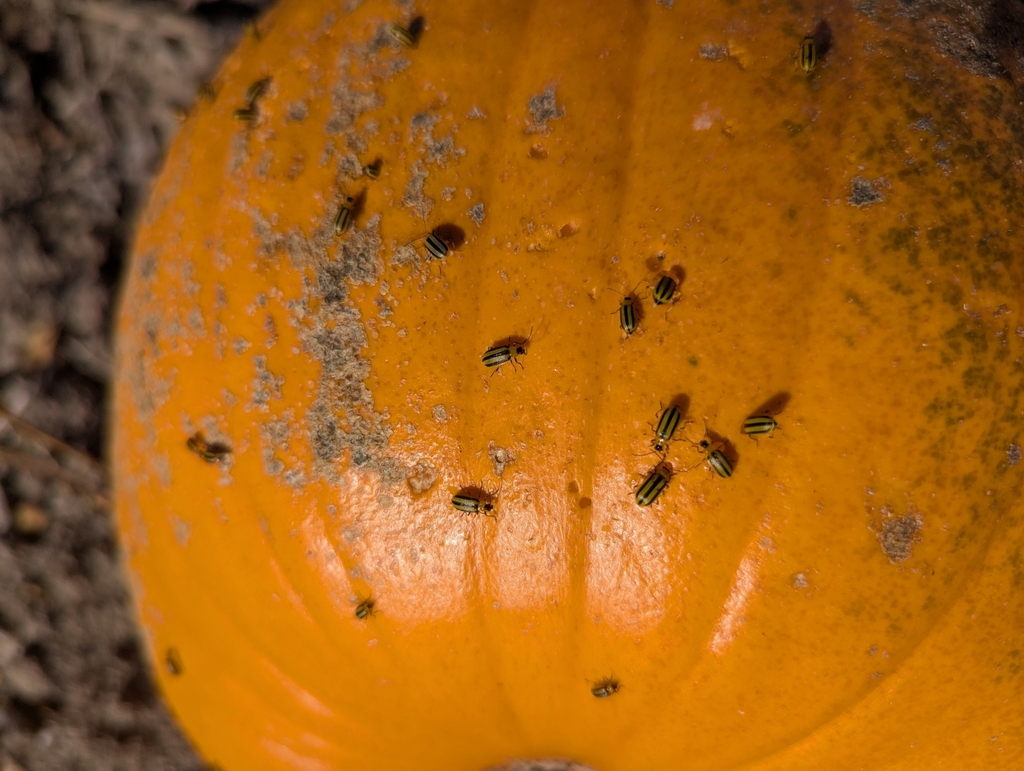potato_beetle: (461, 308, 552, 395), (435, 458, 521, 540), (727, 396, 795, 456)
